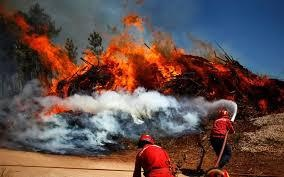fire: (11, 9, 192, 96)
